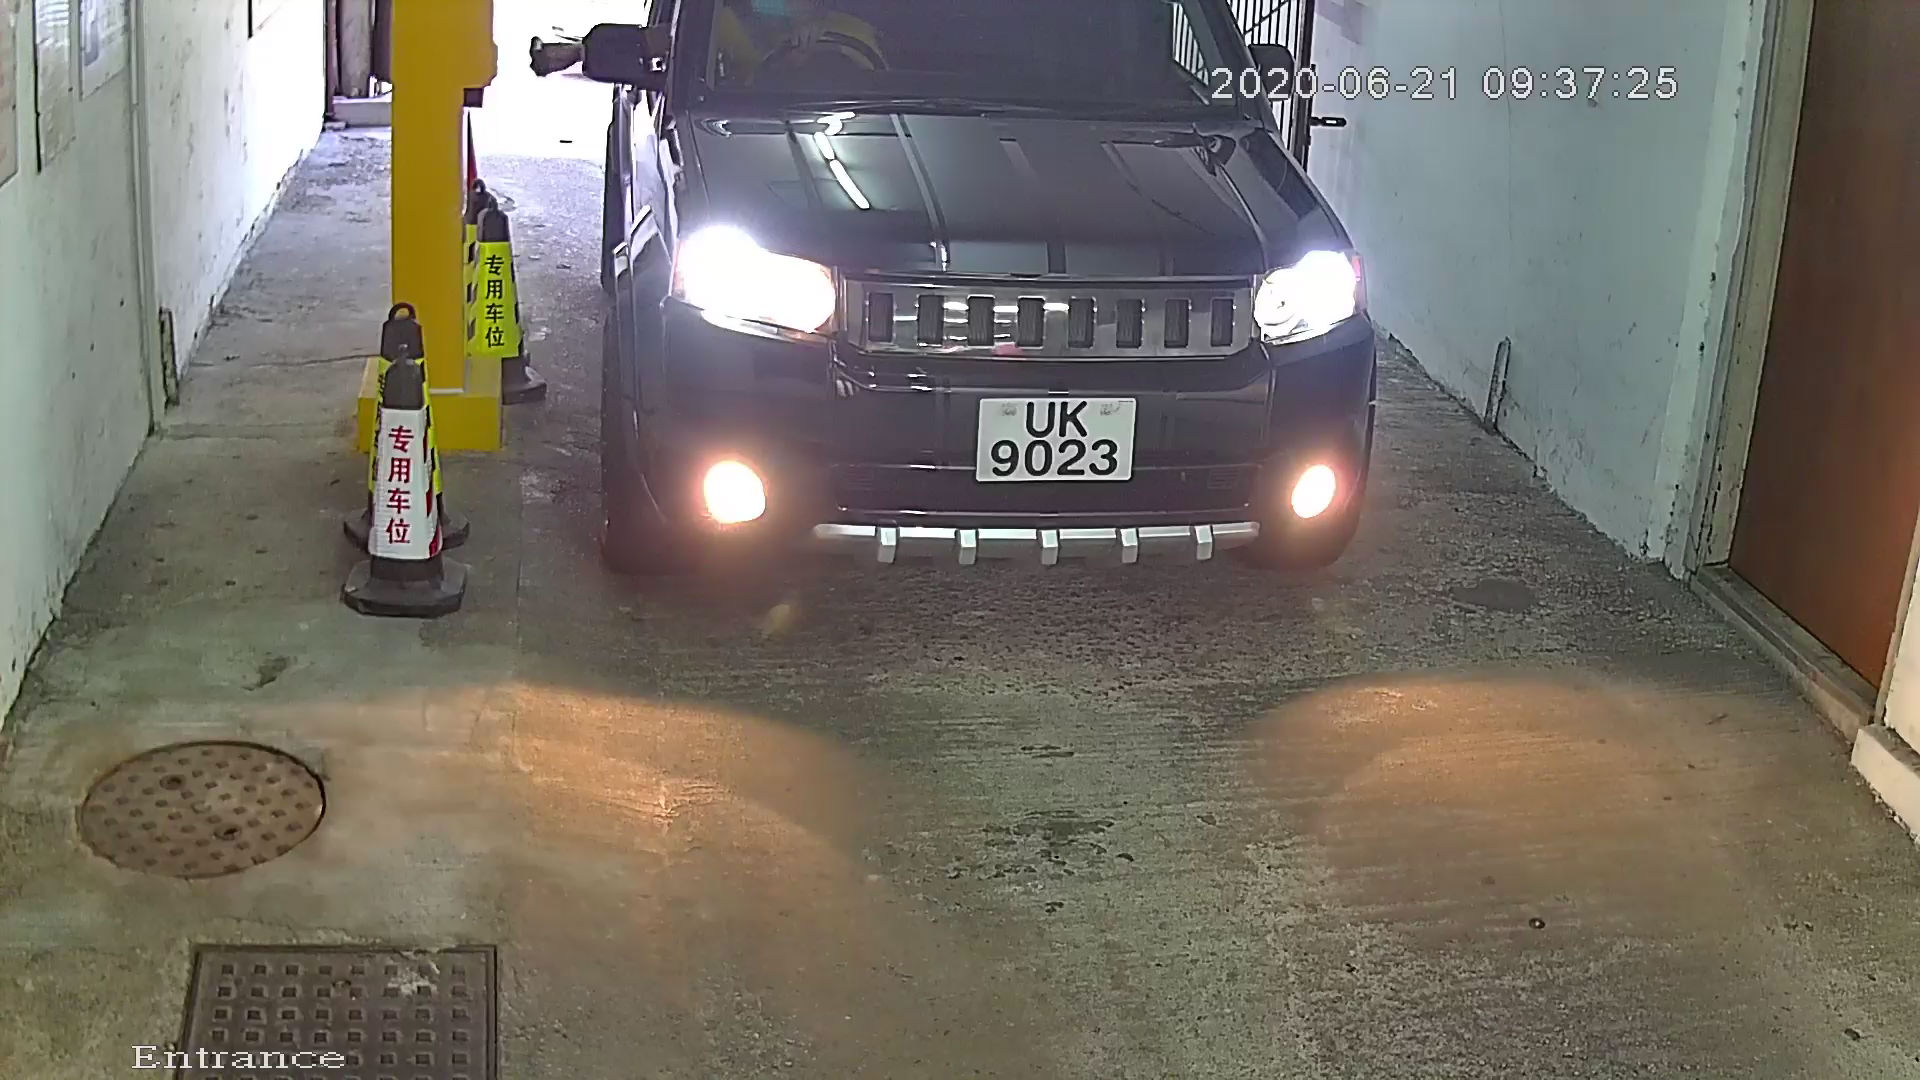privatecar: (562, 1, 1400, 644)
